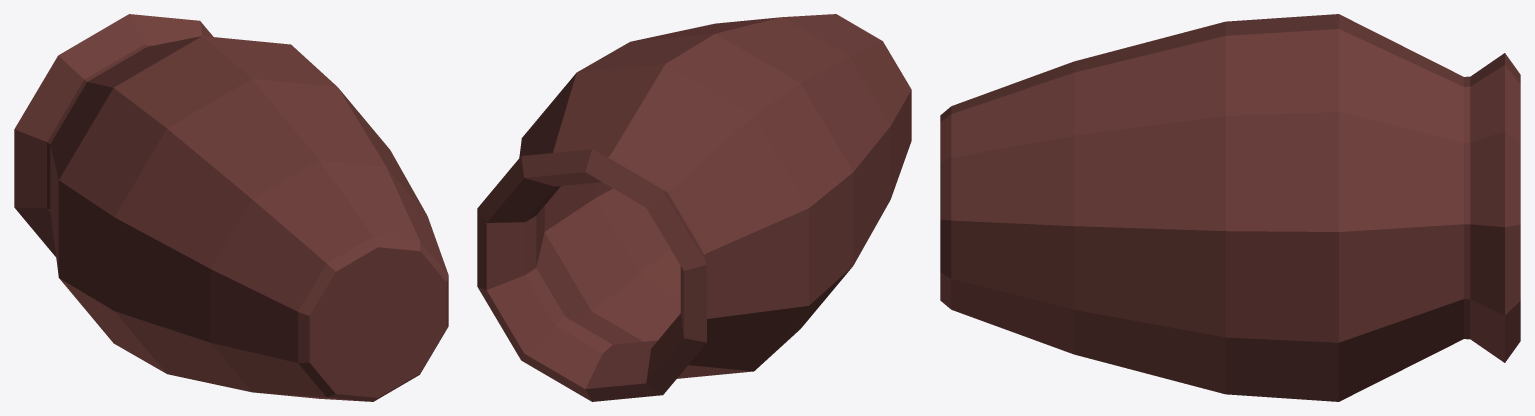
File: Medium_Pot_v006(UV_Unwrapped).fbx
3 renders of one model, left to right at view 1: azimuth 30°, elevation 25°; view 2: azimuth 150°, elevation 25°; view 3: azimuth 270°, elevation 25°, orthographic. The views are drawn at different scales.
Visible parts, largest first — view 1: Pot; view 2: Pot; view 3: Pot.
Part boxes in pixels (box(x1,y1,x2,y2)): Pot: box(14, 14, 448, 401); Pot: box(477, 14, 911, 401); Pot: box(940, 14, 1520, 401).
Bounding box in the file's own units: 285 × 300 × 440.
